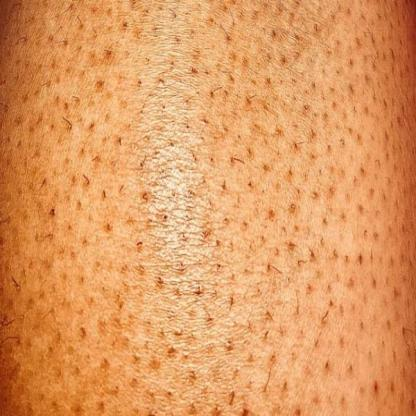Chicken Skin: (1, 3, 414, 411)
